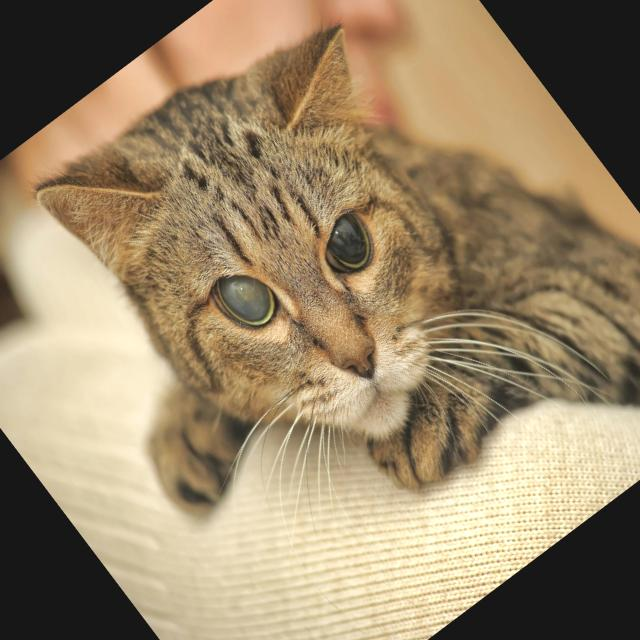cat-eye: (202, 250, 300, 354)
cat-eye-normal: (295, 188, 404, 300)
